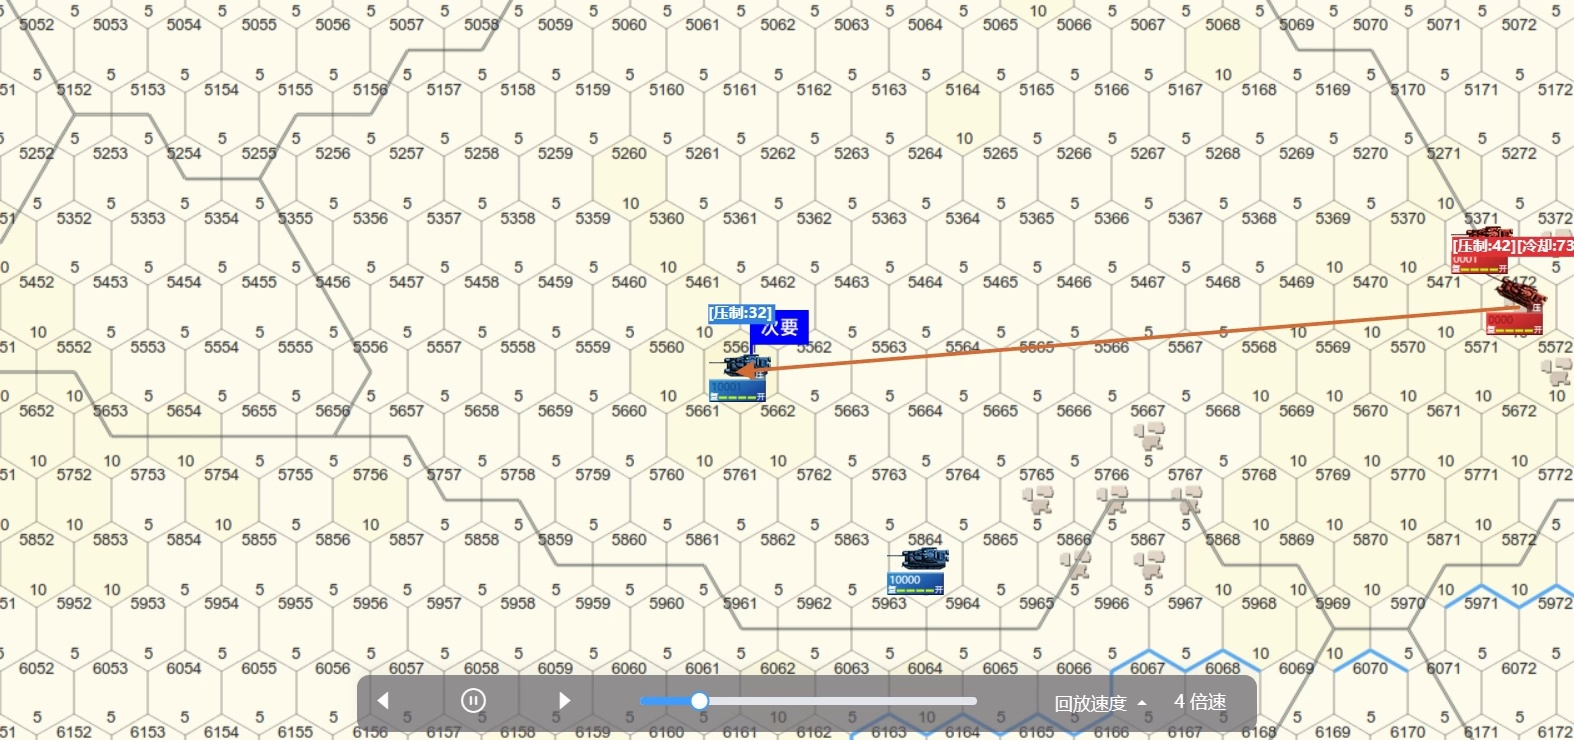blue_tank: (711, 353, 768, 403), (890, 553, 947, 598)
red_tank: (1495, 281, 1545, 337), (1456, 225, 1505, 278)
